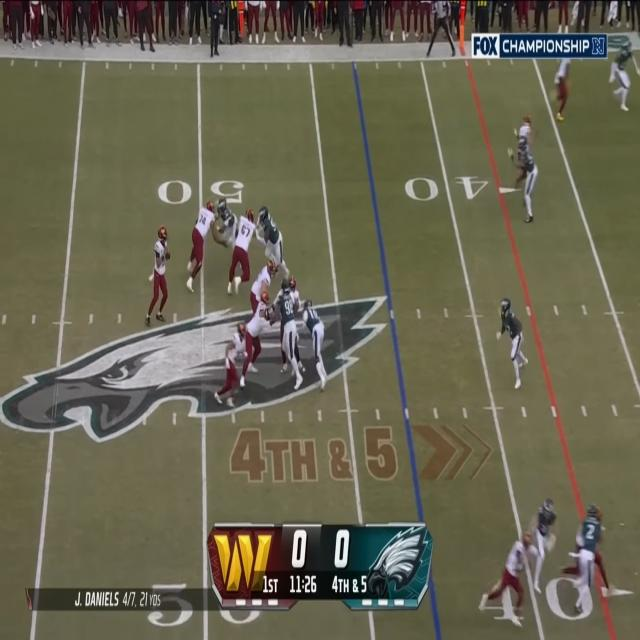Ball: (164, 243, 172, 263)
